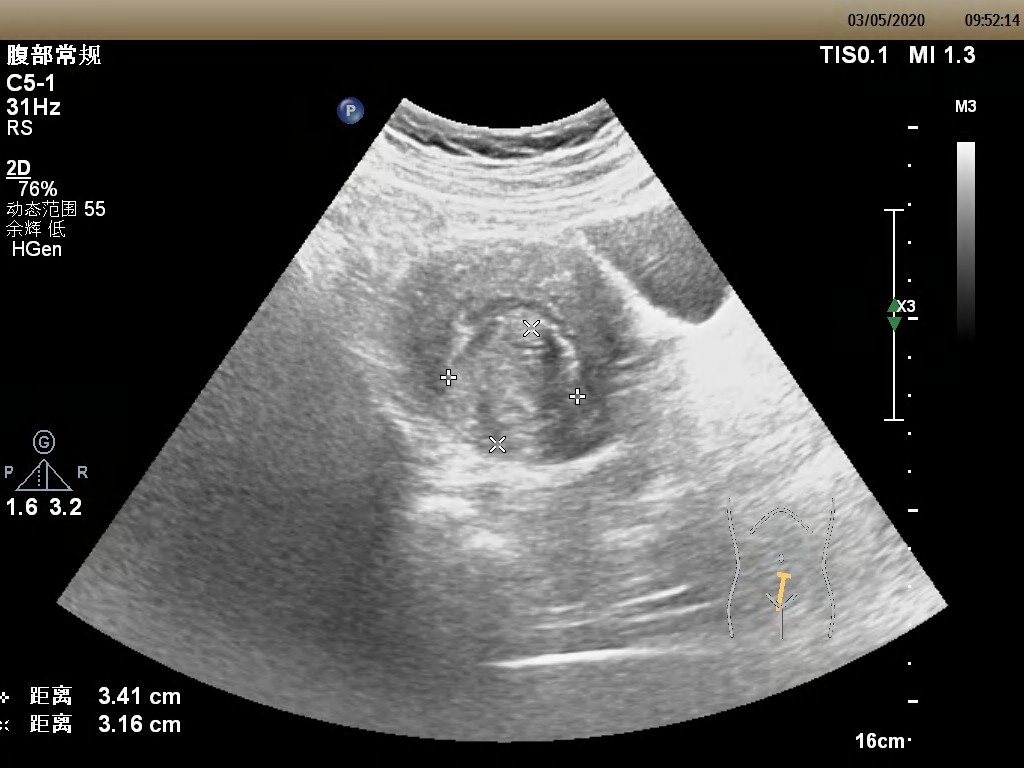肌瘤: (449, 329, 579, 444)
